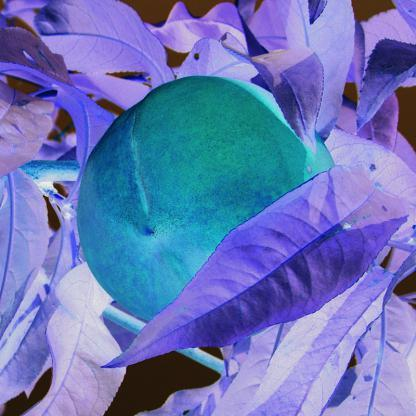Peach leaf: (103, 171, 333, 372), (19, 254, 128, 416), (36, 0, 177, 92), (216, 35, 322, 154), (356, 36, 416, 126)
